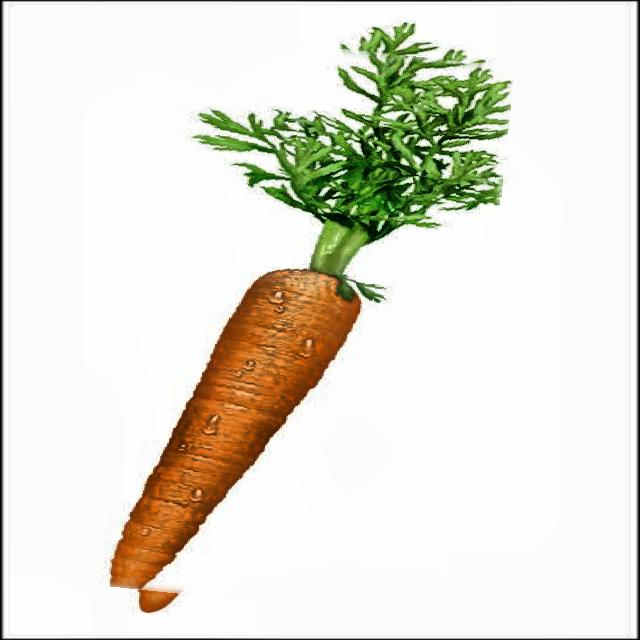carrot: (84, 36, 502, 613)
